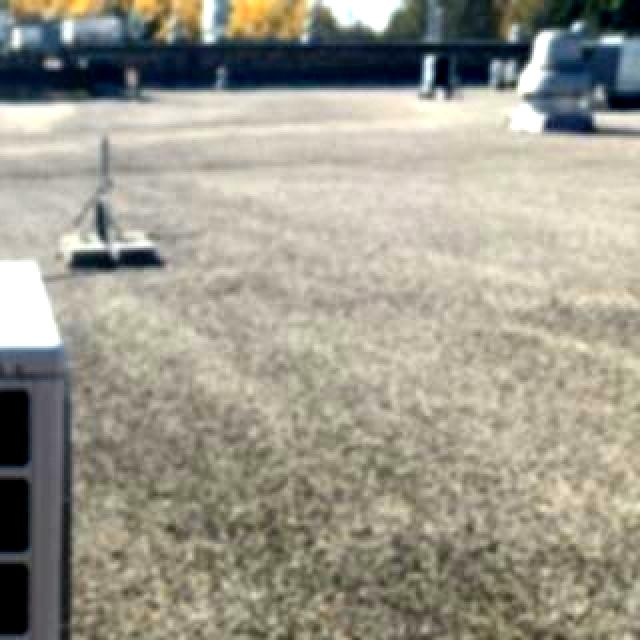SPLIT-SYSTEM: (0, 250, 92, 640)
